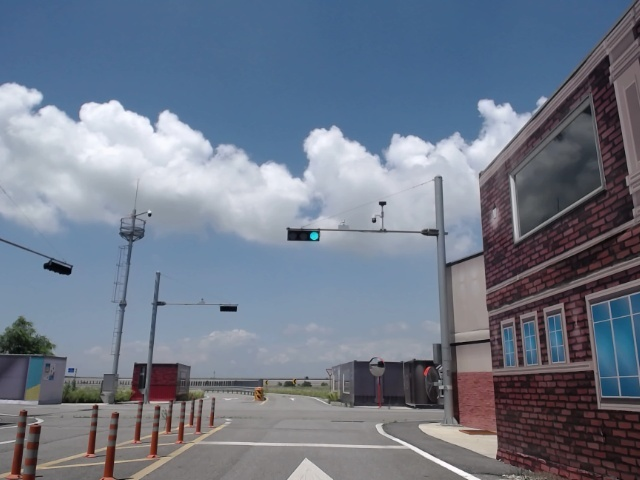green_3: (288, 230, 321, 240)
